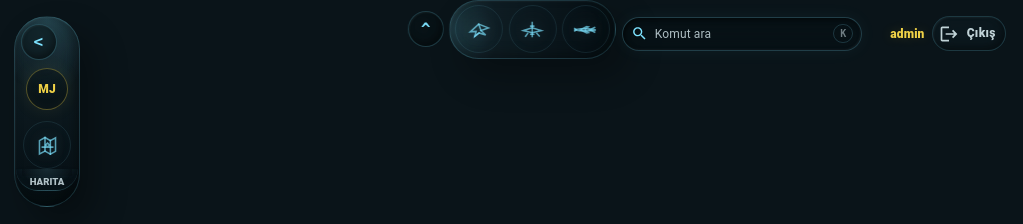
RootLayout tactical command rail › opens a right flyout with hover intent and closes it on submenu, leave, or owning rail click
Expected: the link "3B Harita" is not shown
Hover over the tab "Harita": (47, 158) top-left (15, 121), bottom-right (79, 195)
Wait 80 ms
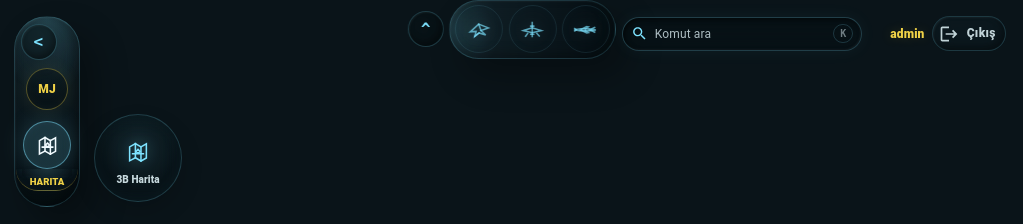
Now the link "3B Harita" is shown
Click the link "3B Harita": (138, 158) top-left (94, 114), bottom-right (182, 202)
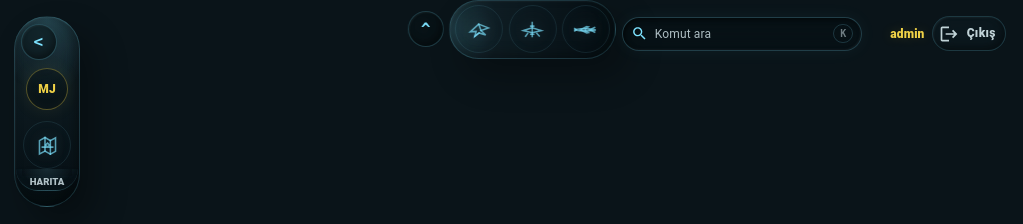
Now the link "3B Harita" is gone
Hover over the tab "Harita": (47, 158) top-left (15, 121), bottom-right (79, 195)
Wait 80 ms
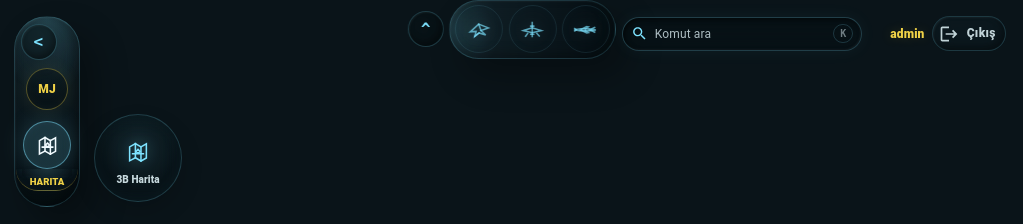
Click the tab "Harita": (47, 158) top-left (15, 121), bottom-right (79, 195)
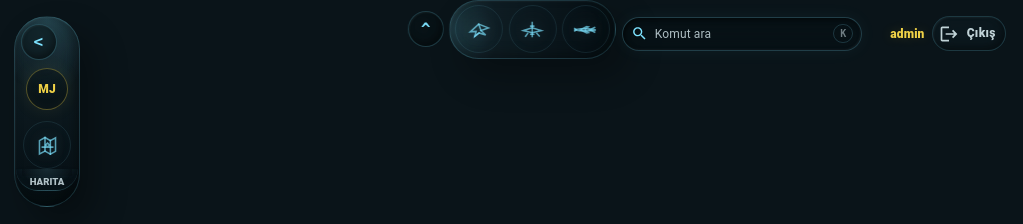
Now the link "3B Harita" is gone
